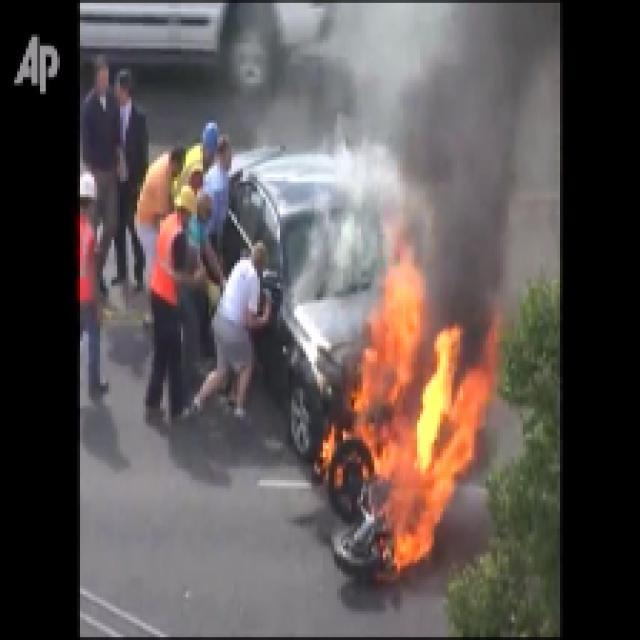Fire: (344, 348, 484, 564)
Smoke: (392, 7, 518, 303)
